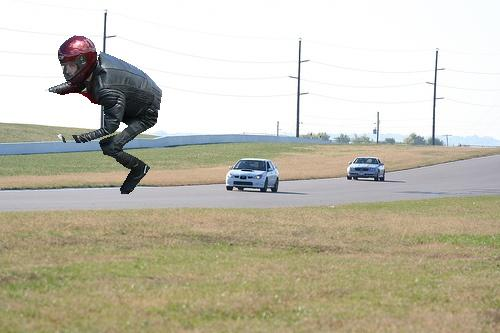tampered: (46, 36, 162, 194)
